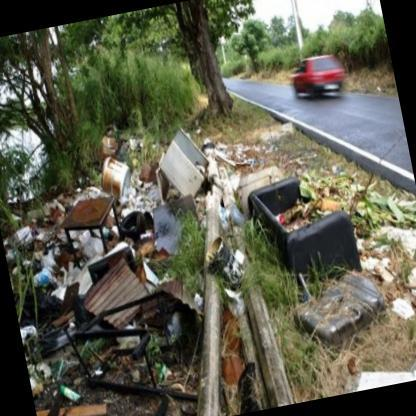Garbage: (233, 142, 279, 171), (22, 252, 58, 289), (123, 182, 157, 218), (398, 254, 415, 303), (36, 233, 64, 257), (326, 159, 350, 179), (10, 227, 34, 246)
